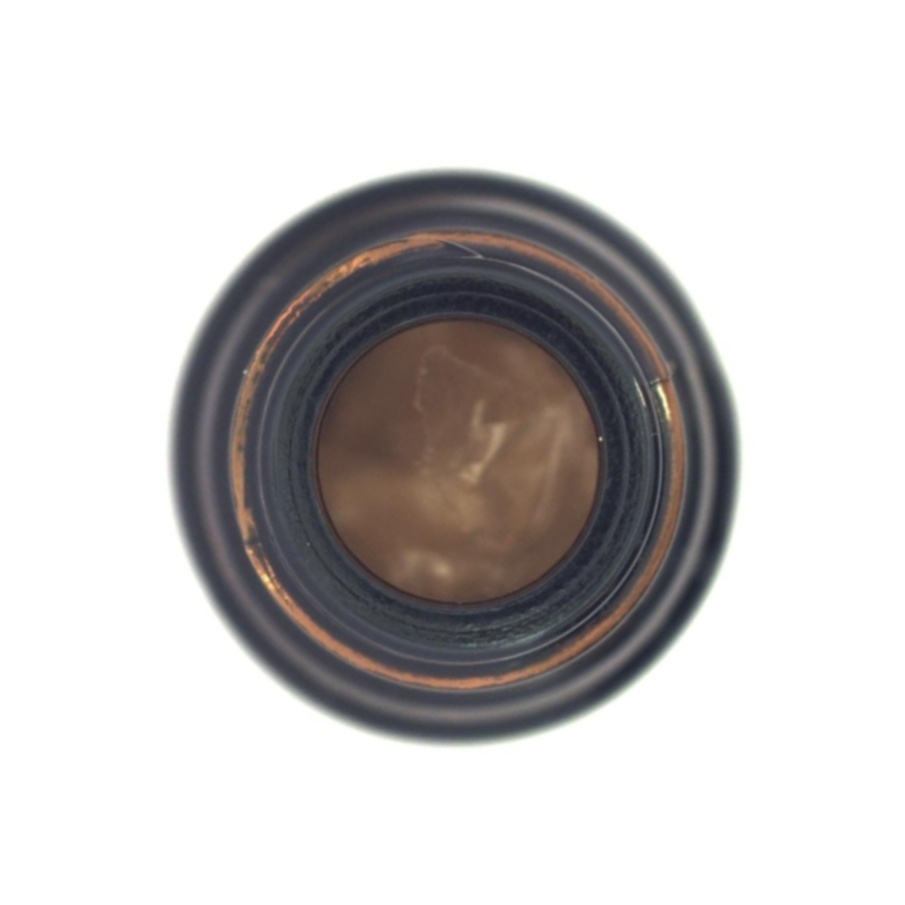bad-contamination: (40, 45, 854, 865)
